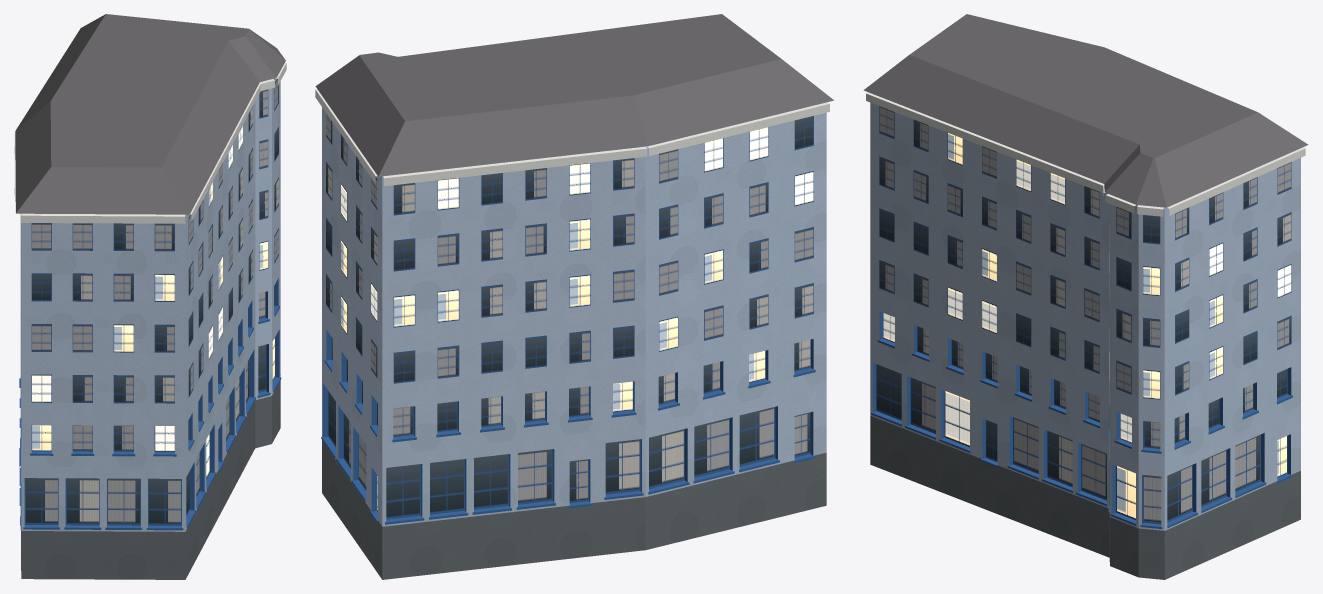
File: z3c_zy_endi.glb
3 views of the same model, side by side, from view 1: azimuth 30°, elevation 25°; view 2: azimuth 150°, elevation 25°; view 3: azimuth 270°, elevation 25° (orthographic). The views are drawn at different scales.
Visible parts, largest first — view 1: z3c_zy_endi; view 2: z3c_zy_endi; view 3: z3c_zy_endi.
Part boxes in pixels (x1,y1,x2,y2): z3c_zy_endi: [14, 14, 286, 579]; z3c_zy_endi: [315, 14, 833, 579]; z3c_zy_endi: [863, 14, 1308, 579].
Bounding box in the file's own units: 23.86 × 24.93 × 24.69.
Materials: 3 (3 with a texture image).
